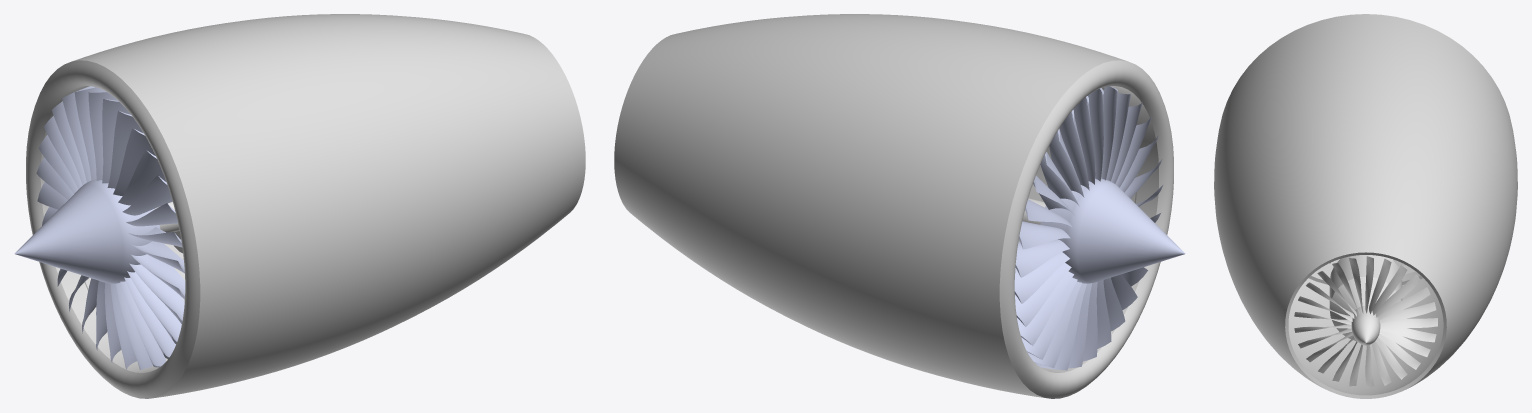
The model's file is carcaca.glb.
3 views of the same model, side by side, from view 1: azimuth 30°, elevation 25°; view 2: azimuth 150°, elevation 25°; view 3: azimuth 270°, elevation 25° (orthographic). The views are drawn at different scales.
Visible parts, largest first — view 1: currentmodel.wrl.cleaner.materialmerger.gles; view 2: currentmodel.wrl.cleaner.materialmerger.gles; view 3: currentmodel.wrl.cleaner.materialmerger.gles.
Boxes of the visible parts, bbox=[...] form: currentmodel.wrl.cleaner.materialmerger.gles: bbox=[14, 14, 585, 398]; currentmodel.wrl.cleaner.materialmerger.gles: bbox=[614, 14, 1185, 398]; currentmodel.wrl.cleaner.materialmerger.gles: bbox=[1214, 14, 1517, 398].
Size of the model in its own units: 778 by 423 by 423.
